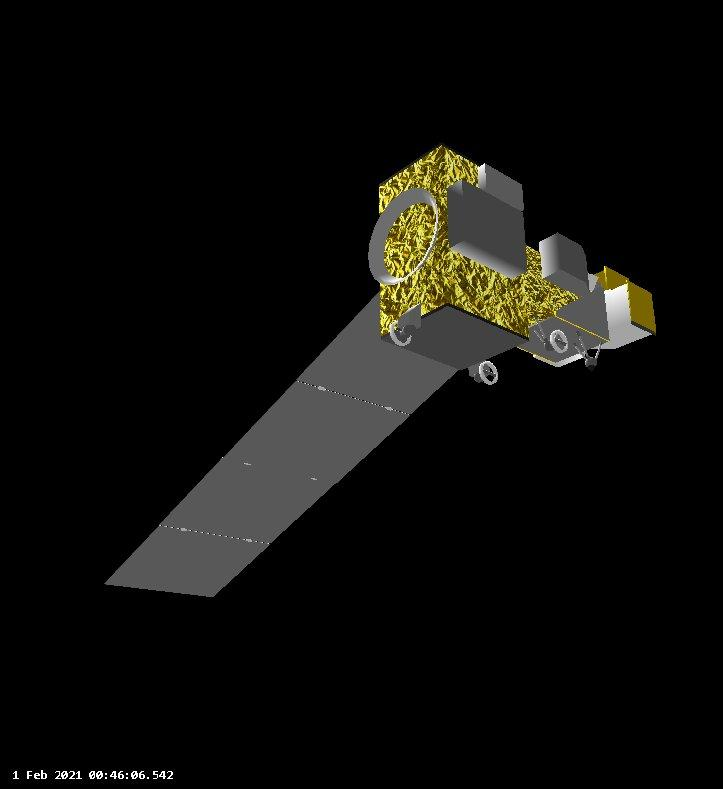antenna: (569, 331, 604, 371), (385, 316, 415, 350), (539, 327, 571, 355), (478, 357, 501, 387)
body: (371, 140, 660, 373)
solar: (105, 281, 469, 599)
